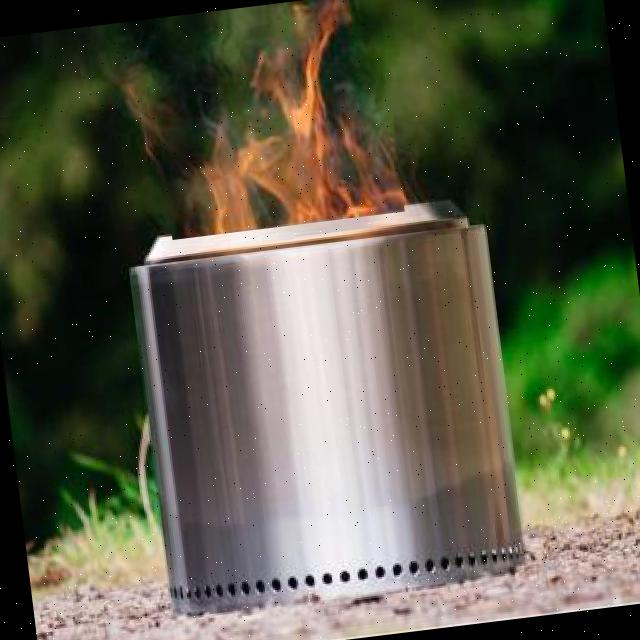fire: (145, 0, 404, 239)
